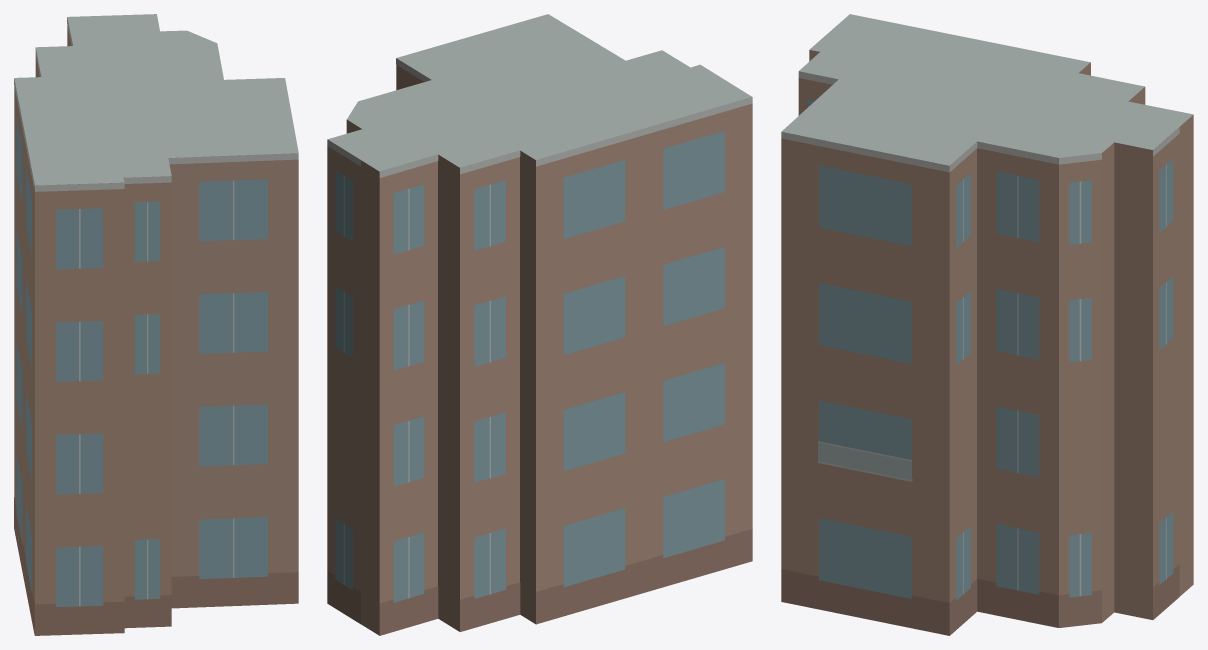
The model's file is survey-upis-32486920.glb.
3 views of the same model, side by side, from view 1: azimuth 30°, elevation 25°; view 2: azimuth 150°, elevation 25°; view 3: azimuth 270°, elevation 25° (orthographic). The views are drawn at different scales.
Parts seen in each view (by area): view 1: survey-upis-32486920.tmp; view 2: survey-upis-32486920.tmp; view 3: survey-upis-32486920.tmp.
Part boxes in pixels (bbox=[...]): survey-upis-32486920.tmp: bbox=[14, 14, 298, 635]; survey-upis-32486920.tmp: bbox=[327, 14, 752, 635]; survey-upis-32486920.tmp: bbox=[781, 14, 1193, 635].
Bounding box in the file's own units: 11.92 × 17.2 × 13.68.
